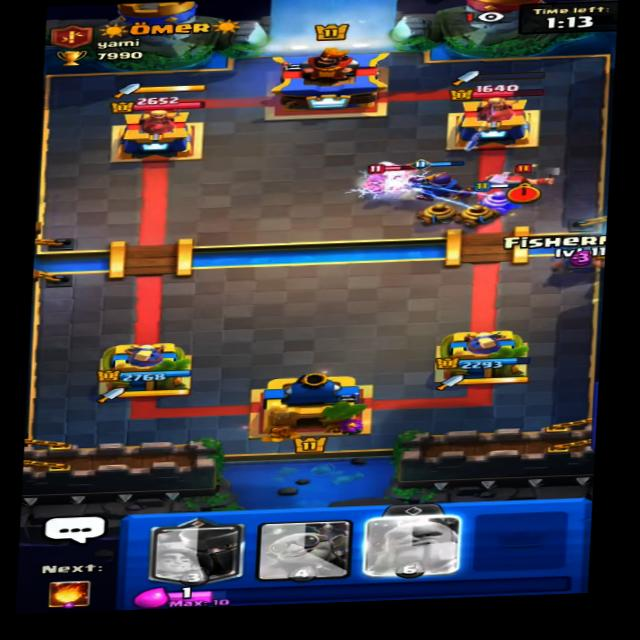lumberjack: (477, 160, 566, 194)
monk: (356, 157, 428, 197)
